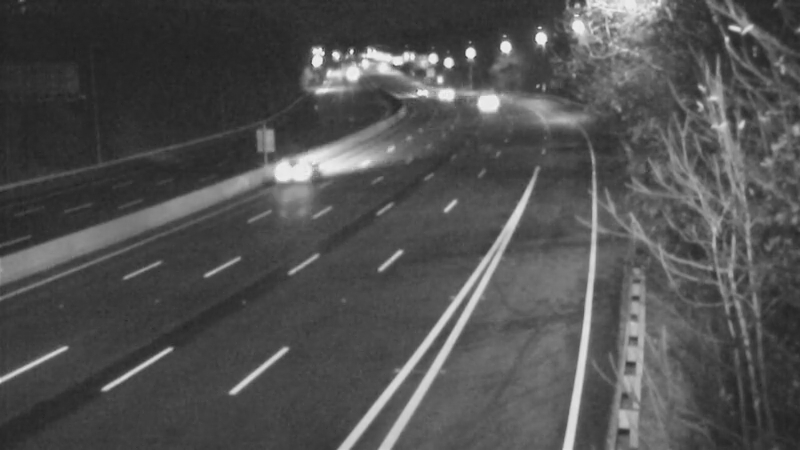vehicle: (262, 135, 342, 215), (395, 66, 445, 116), (425, 69, 475, 119), (459, 81, 509, 131)
